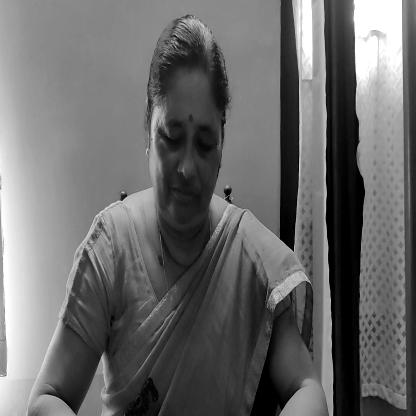Normal: (140, 30, 232, 233)
